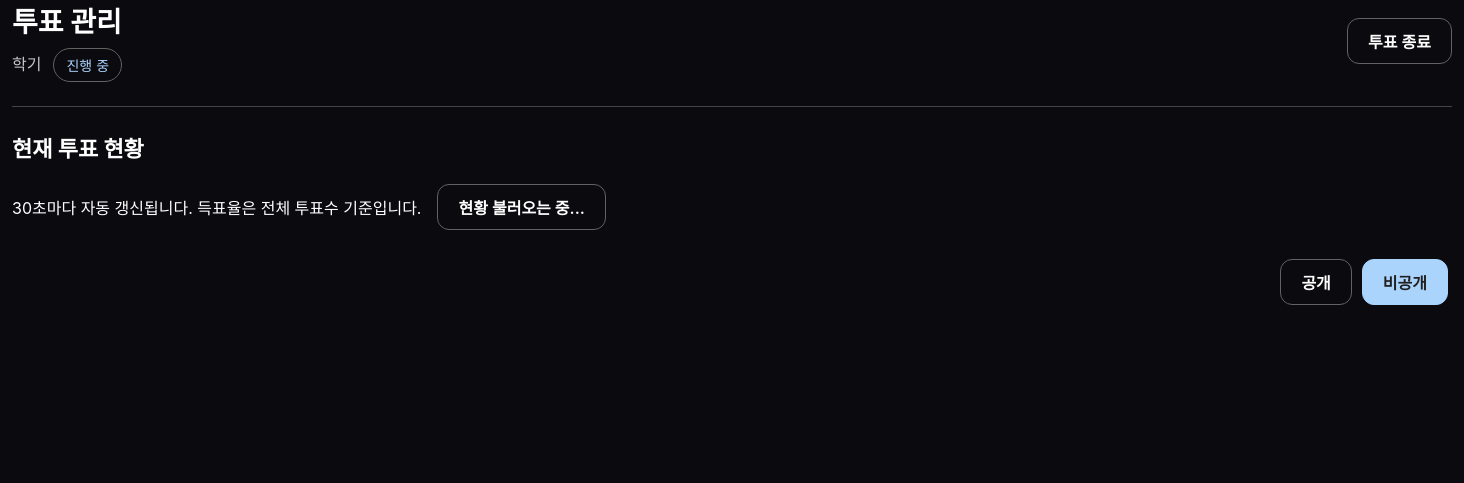
Test case: 투표 종료 후 늦게 도착한 진행 중 집계가 최종 결과를 덮어쓰지 않는다
The width and height of the screenshot is (1464, 483).
Click the button "투표 종료".
click(1400, 41)  # box [1347,18,1452,64]
Wait 60000 ms
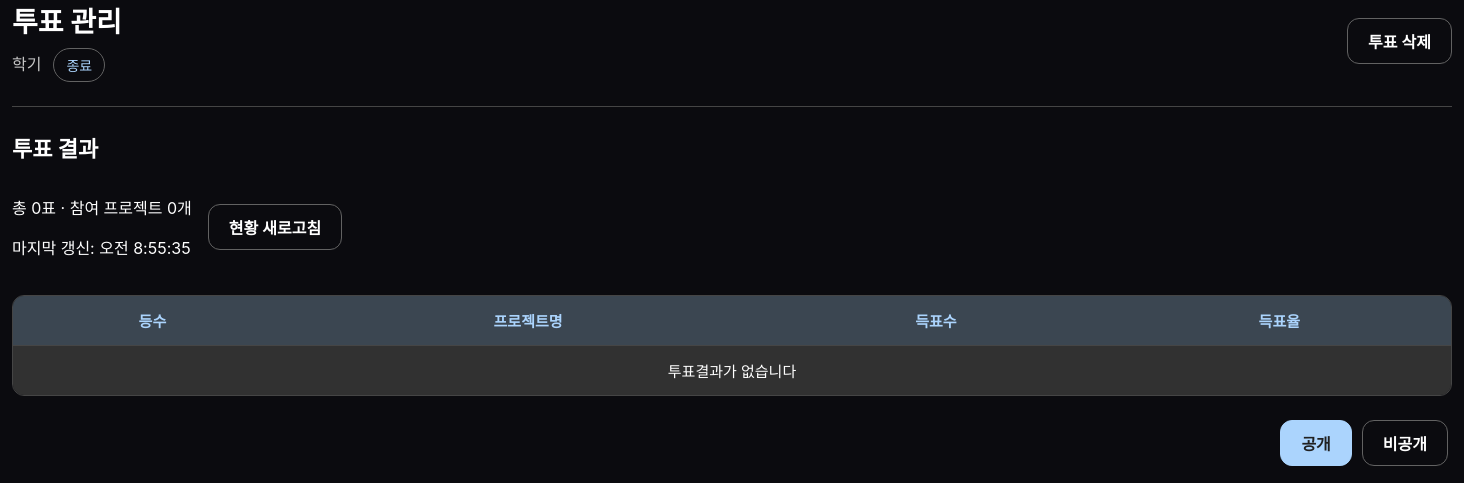
Now the text "총 0표 · 참여 프로젝트 0개" is shown, box [12,195,192,219]
